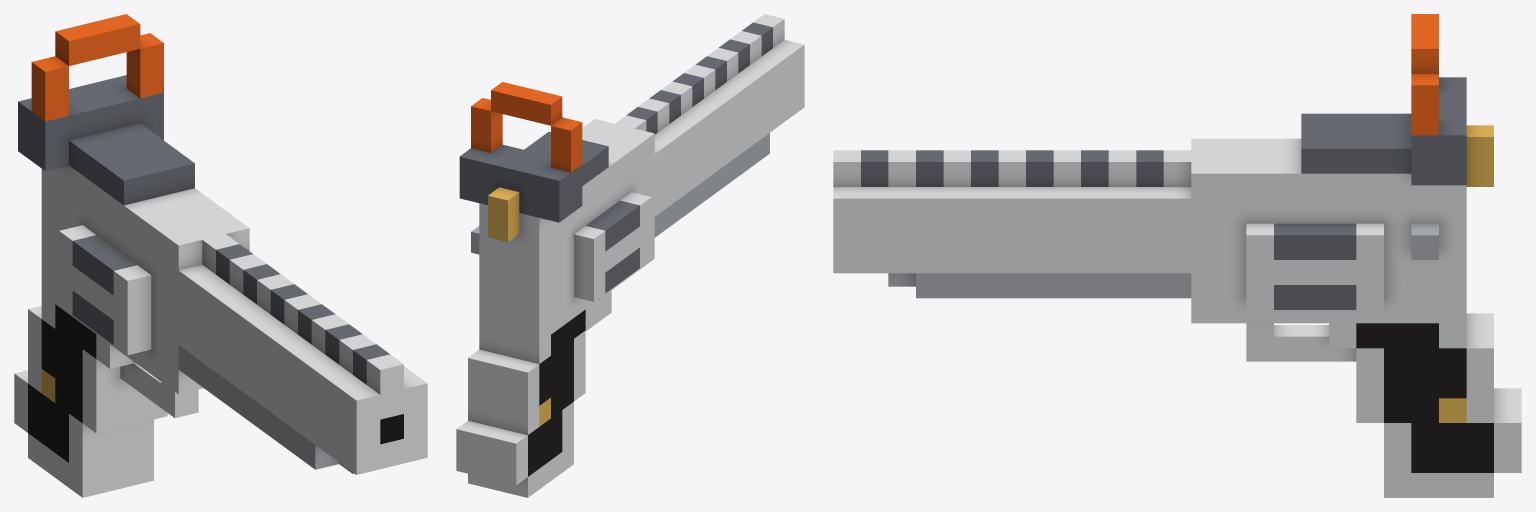
File: revolver.glb
3 renders of one model, left to right at view 1: azimuth 30°, elevation 25°; view 2: azimuth 150°, elevation 25°; view 3: azimuth 270°, elevation 25°, orthographic. The views are drawn at different scales.
Parts seen in each view (by area): view 1: revolver_body; view 2: revolver_body; view 3: revolver_body.
Part boxes in pixels (x1,y1,x2,y2): revolver_body: (14,14,427,497); revolver_body: (456,14,804,497); revolver_body: (833,14,1521,497).
Bounding box in the file's own units: 0.1953 × 0.7031 × 0.9766.
1 material, 1 textured.
